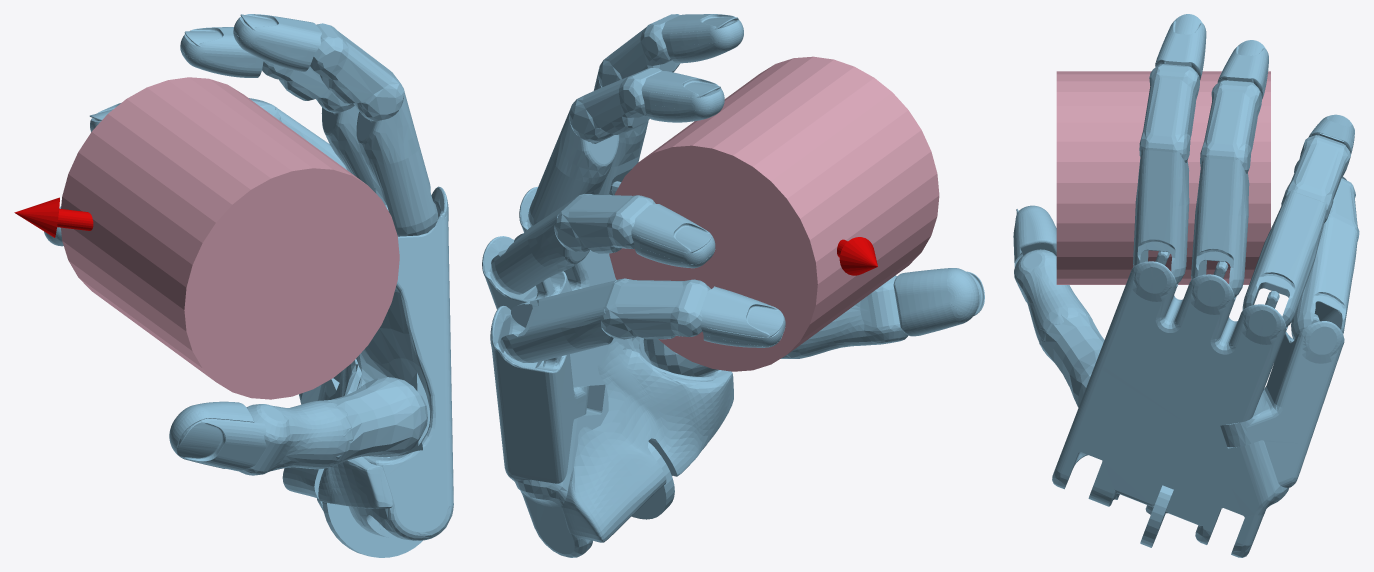
3 views of the same model, side by side, from view 1: azimuth 30°, elevation 25°; view 2: azimuth 150°, elevation 25°; view 3: azimuth 270°, elevation 25° (orthographic). The views are drawn at different scales.
Visible parts, largest first — view 1: cylinder_medium.stl, world; view 2: world, cylinder_medium.stl; view 3: world, cylinder_medium.stl.
Boxes of the visible parts, <box> form: cylinder_medium.stl: <box>61,77,399,399</box>; world: <box>14,14,453,557</box>; world: <box>482,14,984,557</box>; cylinder_medium.stl: <box>609,56,939,371</box>; world: <box>1013,14,1359,557</box>; cylinder_medium.stl: <box>1056,71,1270,284</box>.
Bounding box in the file's own units: 0.1453 × 0.1991 × 0.1293.
